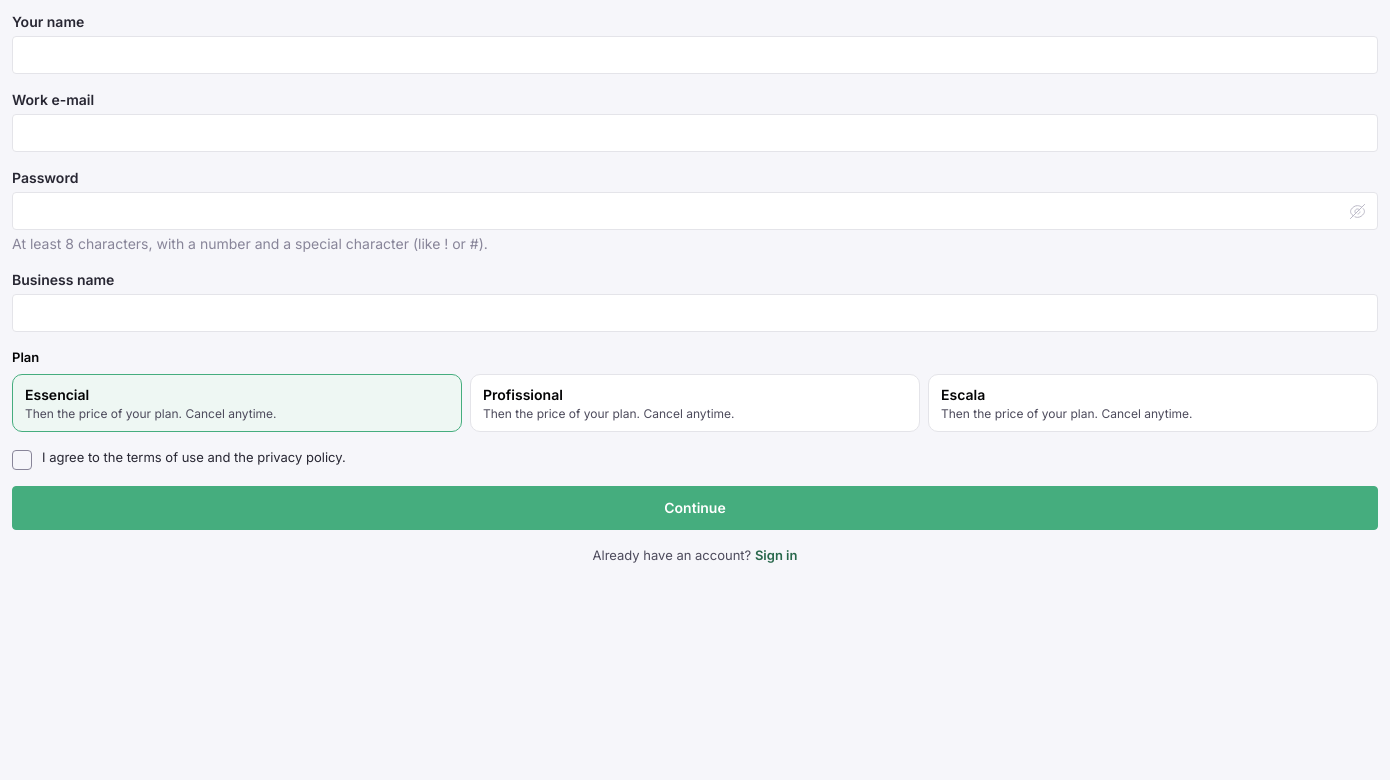
Test case: SignupAccountStep › says which password rule is missing
In the field named "Your name": point(695, 55) left=12, top=36, right=1378, bottom=74, type "Maria Silva"
In the field named "Work e-mail": point(695, 133) left=12, top=114, right=1378, bottom=152, type "maria@empresa.com.br"
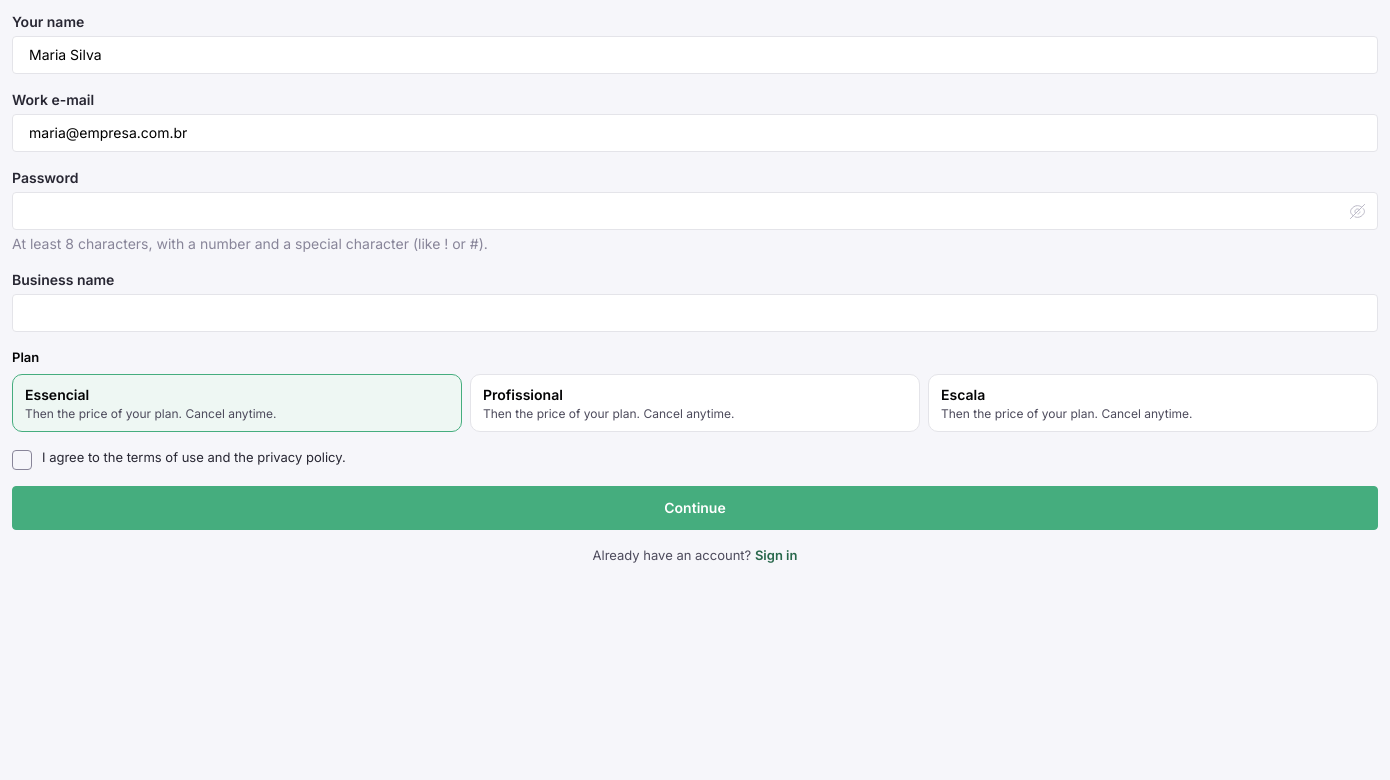
In the password field named "Password": point(695, 211) left=12, top=192, right=1378, bottom=230, type "Segura#1"
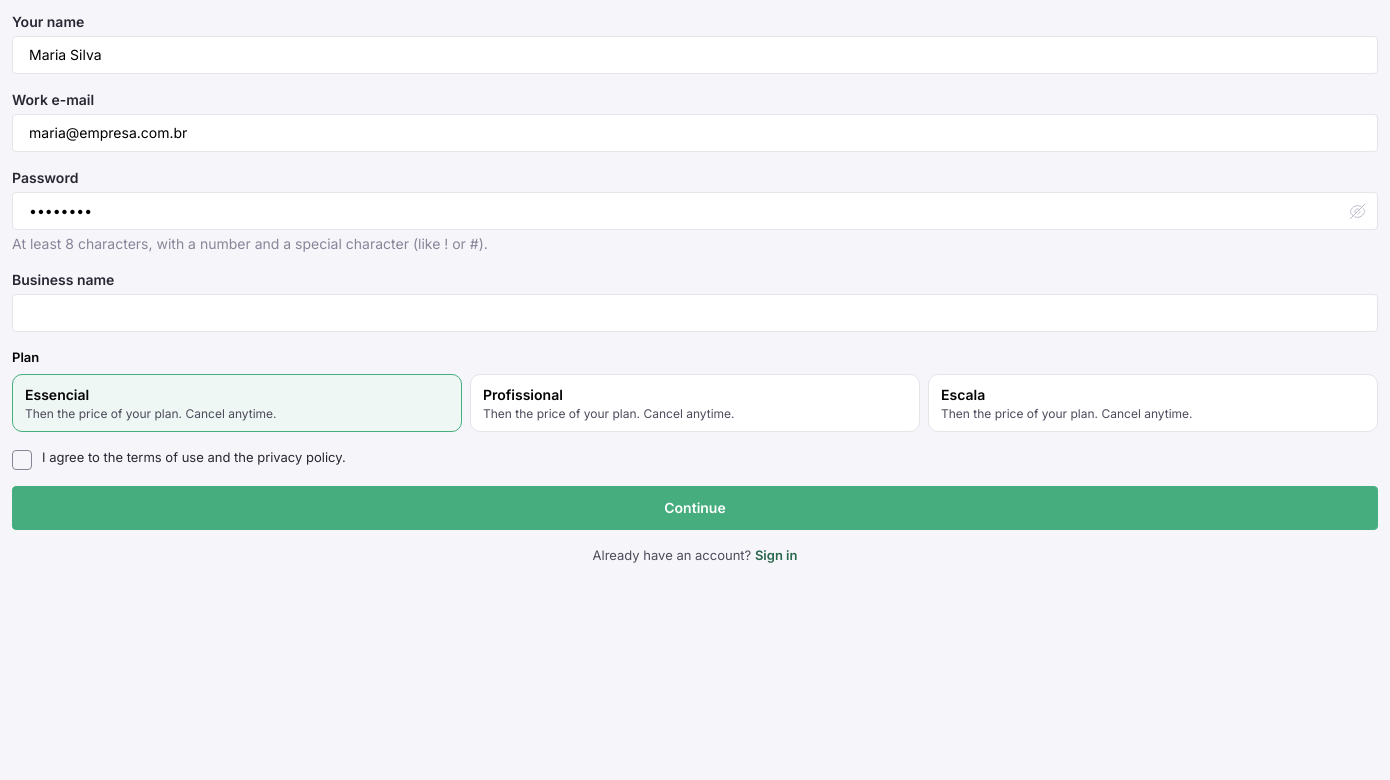
In the field named "Business name": point(695, 313) left=12, top=294, right=1378, bottom=332, type "Clínica Sorriso"
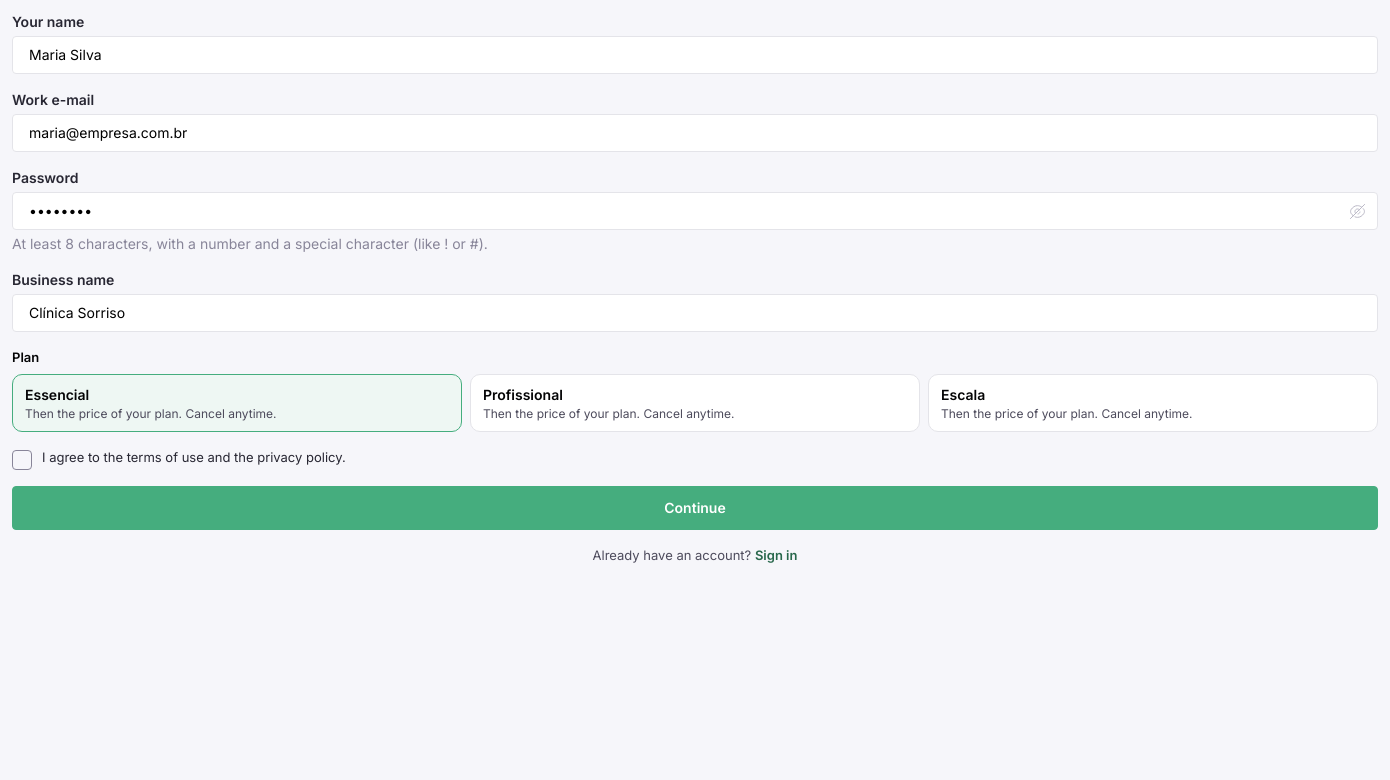
In the password field named "Password": point(695, 211) left=12, top=192, right=1378, bottom=230, type "abcdefgh1"
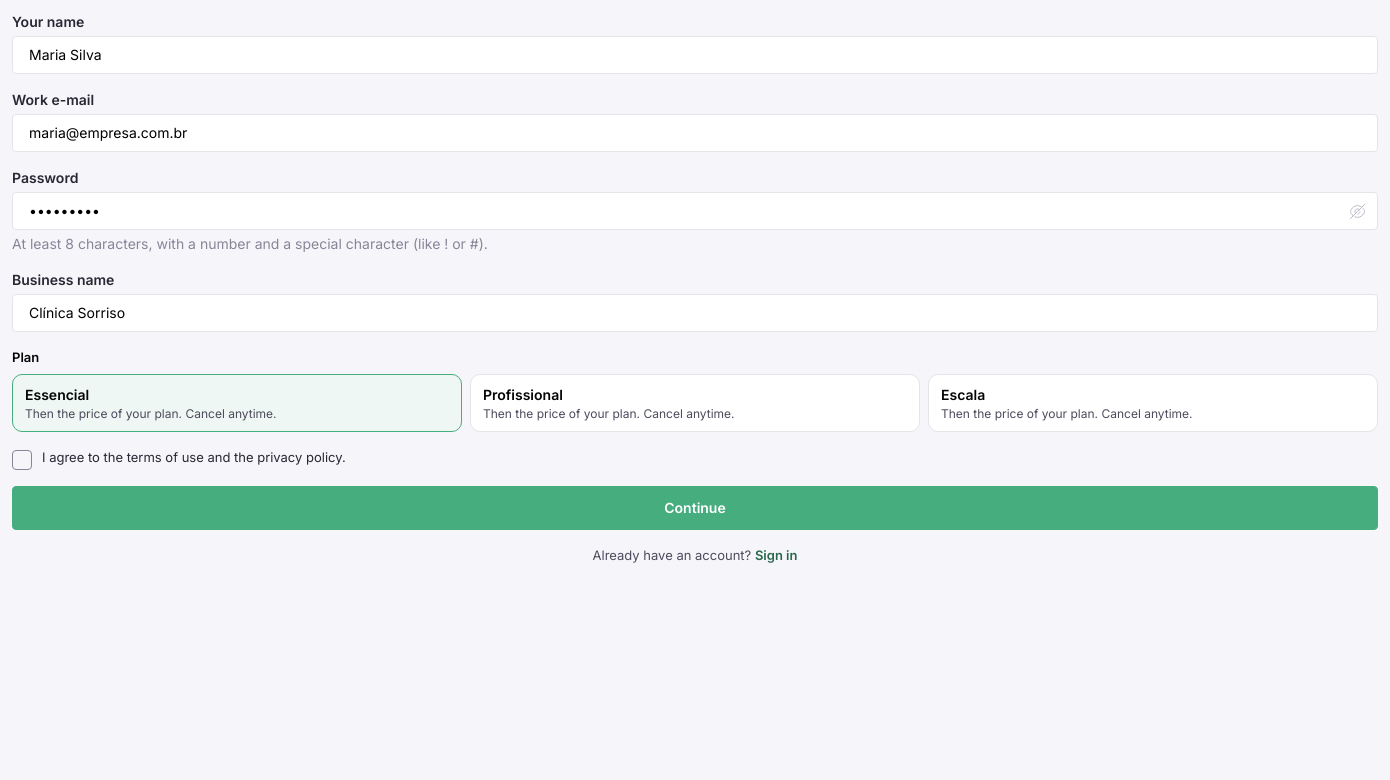
Click the checkbox: point(22, 460) left=12, top=450, right=32, bottom=470
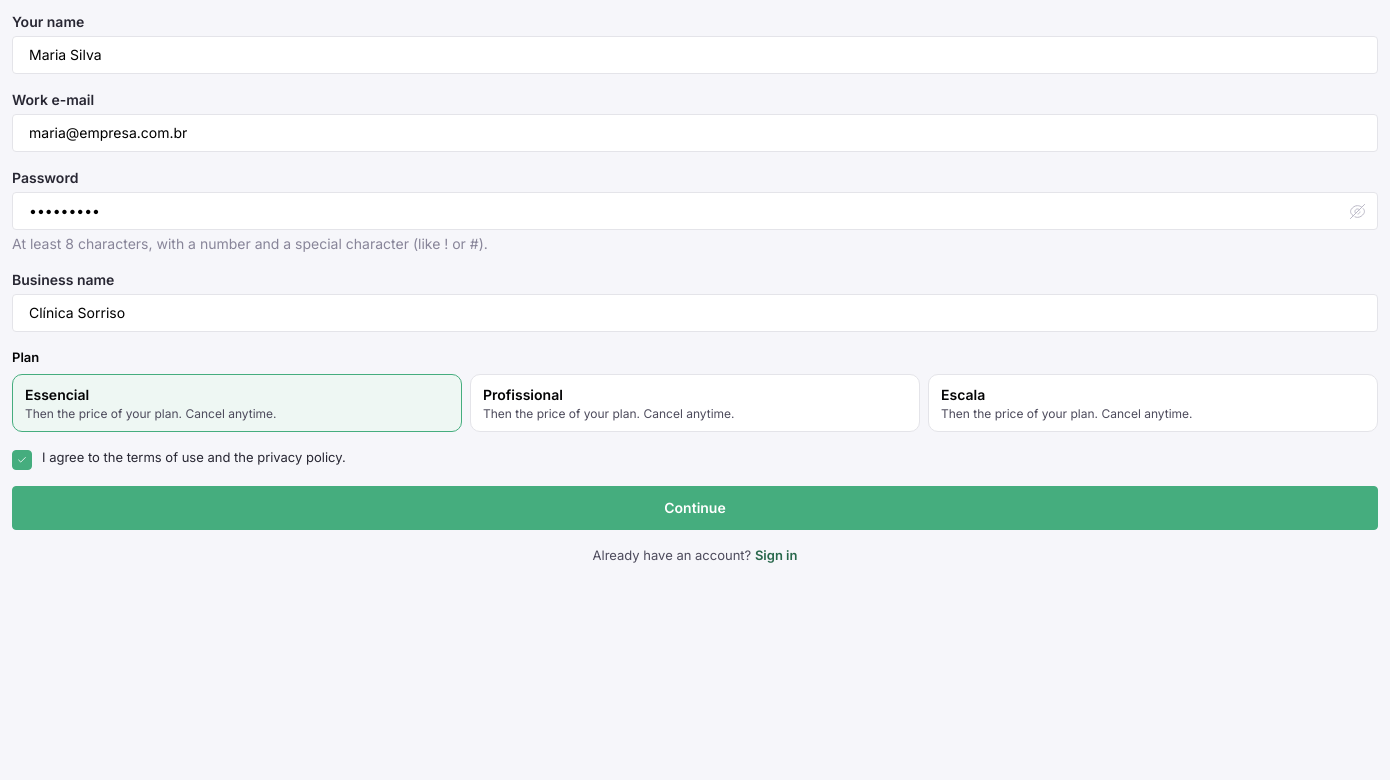
Click the button "Continue": point(695, 508) left=12, top=486, right=1378, bottom=530
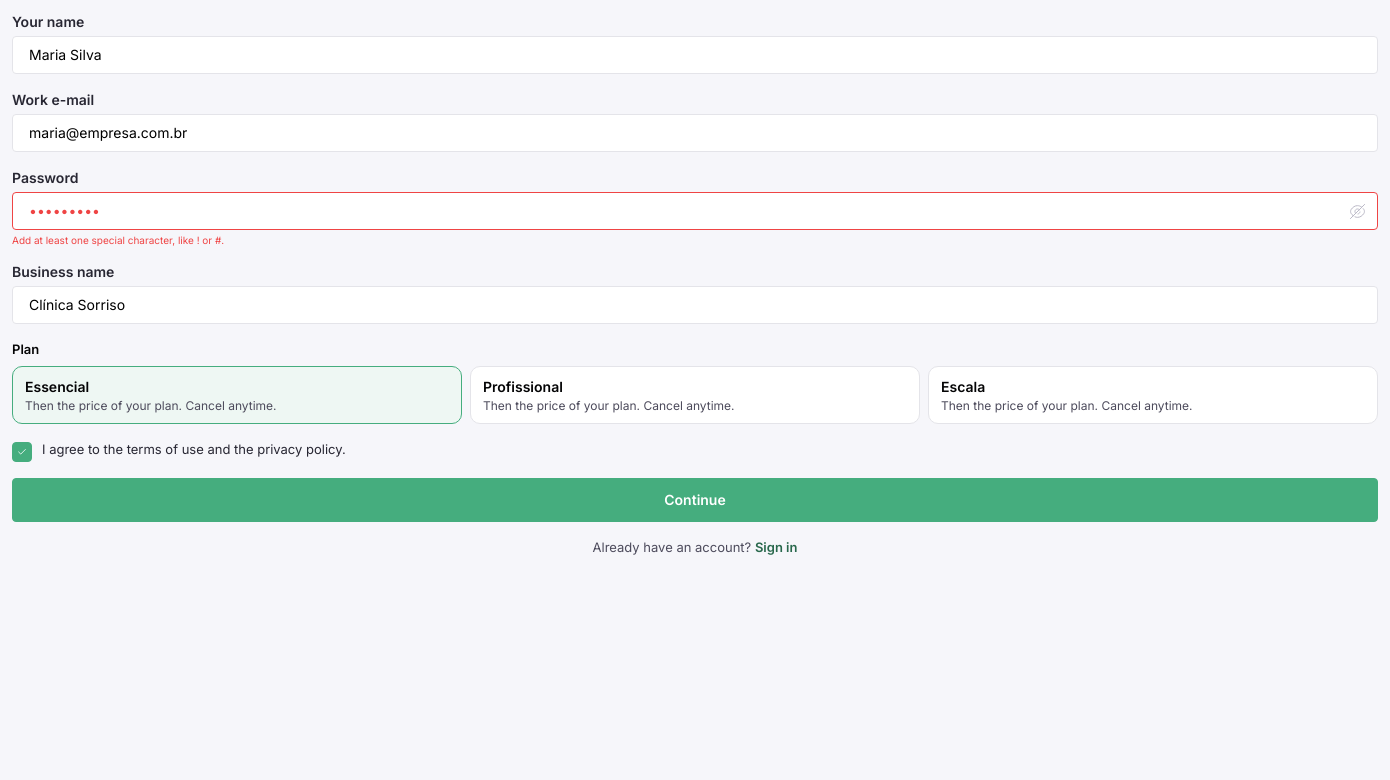
Now the text "Add at least one special character, like ! or #." is shown, box left=12, top=234, right=224, bottom=246
